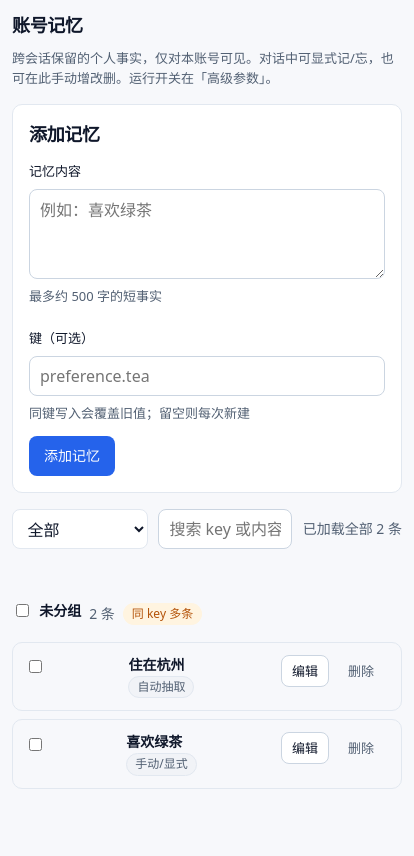
Test case: MemorySettings › bulk deletes selected memories
This screenshot has width=414, height=856.
Later steps or results of the test are not shown.
What coordinates should you click on to do the following:
click the checkbox named "选择这条记忆" next to "住在杭州"
I would click on:
 (36, 667)
Its box is 29,660 -> 42,673.
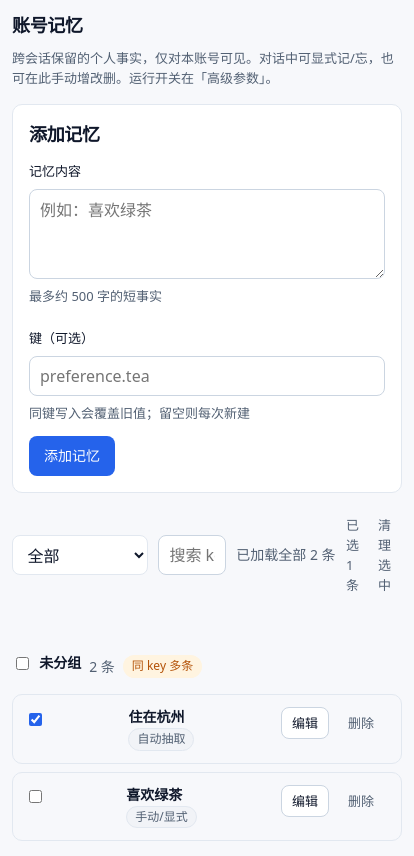
What coordinates should you click on to do the following:
click the checkbox named "选择这条记忆" next to "喜欢绿茶"
I would click on:
 (36, 797)
Its box is 29,790 -> 42,803.
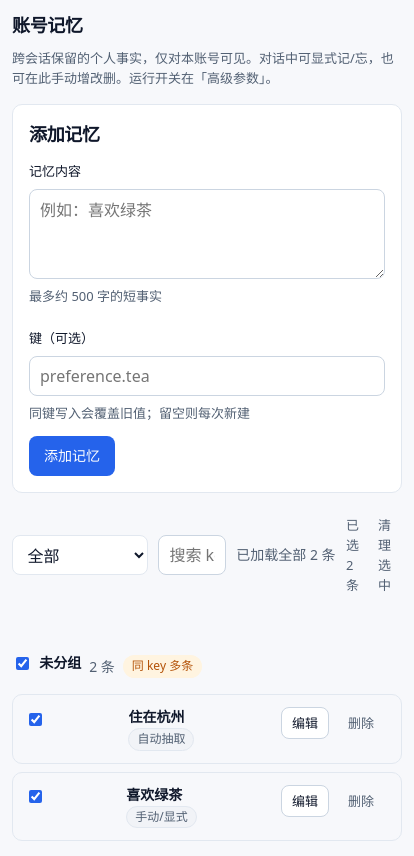
Expected: the button "清理选中" is shown, 367,509 -> 402,601
